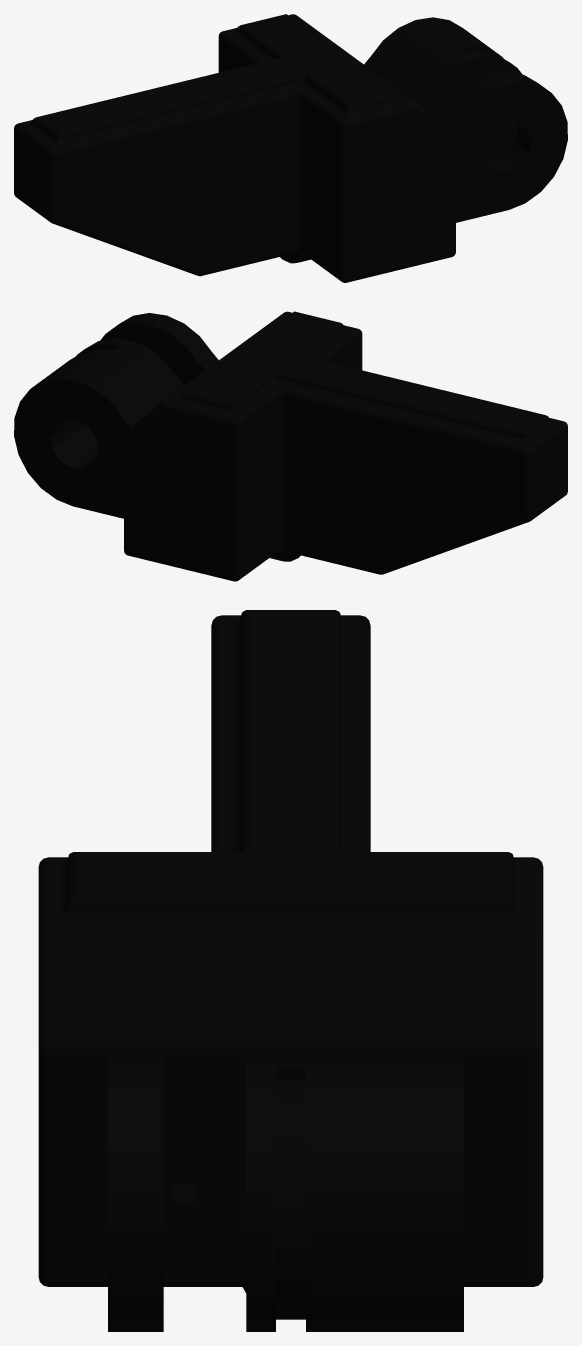
The model's file is gripper_left_distal_link.obj.
3 views of the same model, one above another, from view 1: azimuth 30°, elevation 25°; view 2: azimuth 150°, elevation 25°; view 3: azimuth 270°, elevation 25° (orthographic). The views are drawn at different scales.
Visible parts, largest first — view 1: gripper_left_distal_link; view 2: gripper_left_distal_link; view 3: gripper_left_distal_link.
Part boxes in pixels (x1,y1,x2,y2): gripper_left_distal_link: (14, 14, 567, 282); gripper_left_distal_link: (14, 311, 567, 581); gripper_left_distal_link: (38, 610, 543, 1331).
Bounding box in the file's own units: 0.057 × 0.0217 × 0.0254.
1 material, 1 textured.
